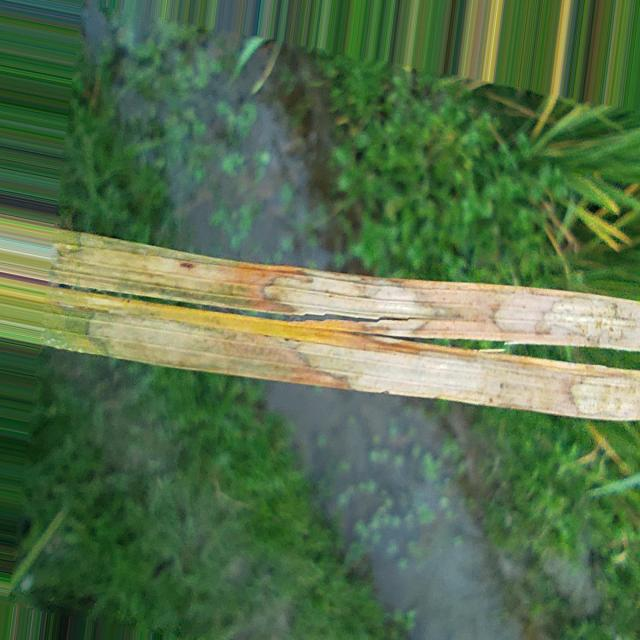Brown_Spot: (180, 262, 194, 268)
Rice False Smut: (262, 267, 436, 338), (302, 342, 498, 400), (495, 295, 640, 344), (570, 377, 640, 420)
